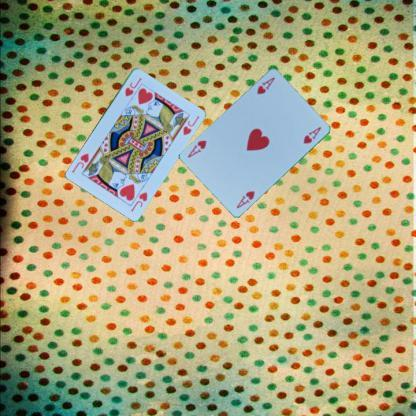Ah: (233, 188, 256, 210), (254, 74, 276, 96)
Jh: (121, 75, 144, 98), (128, 189, 148, 213)
